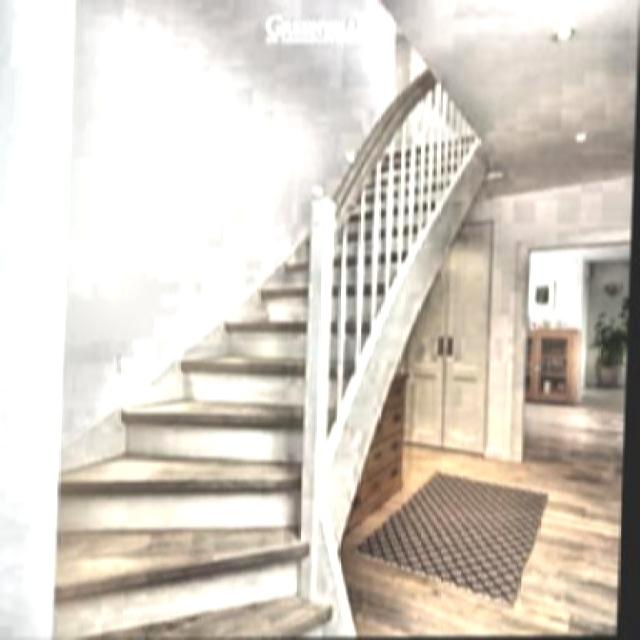stair: (39, 152, 428, 560)
